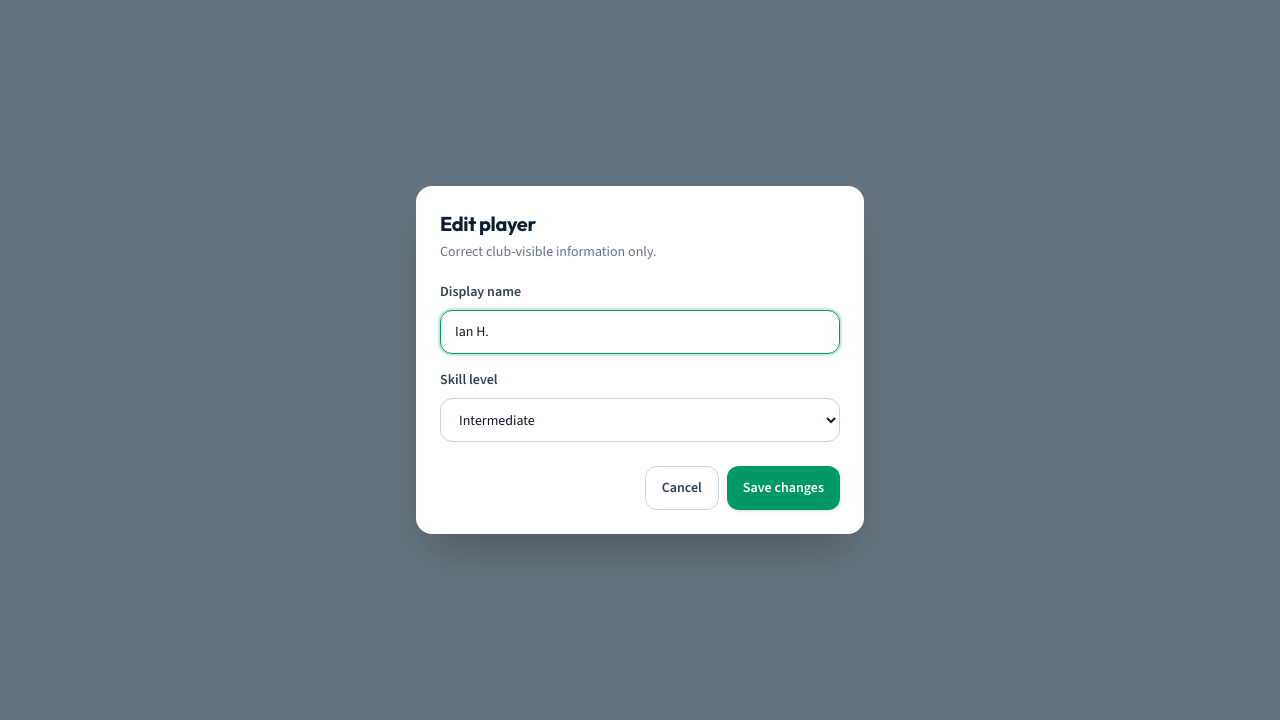
Test: EditPlayerDialog › shows an accessible error instead of silently ignoring an invalid name
The width and height of the screenshot is (1280, 720).
Replace the text in the field labelled "Display name" with "I" at coordinates (640, 332), box [440,310,840,354]
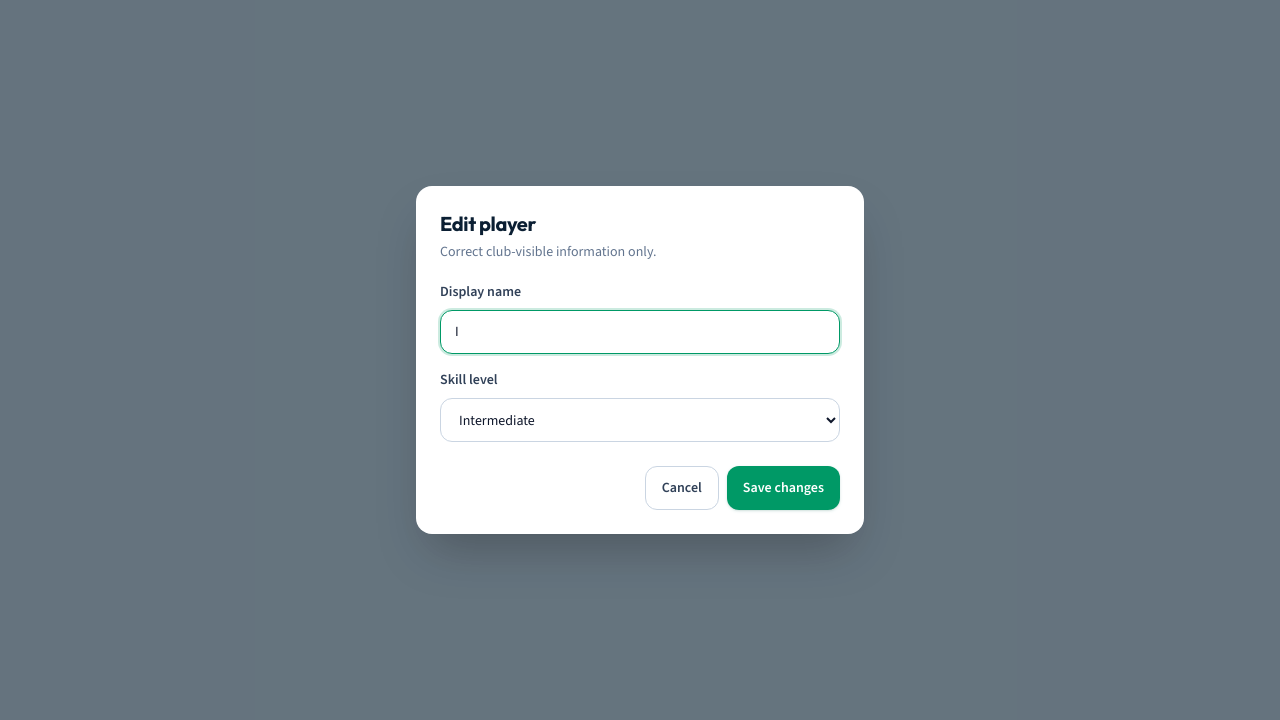
Click the button "Save changes" at coordinates (783, 488), box [727,466,840,510]
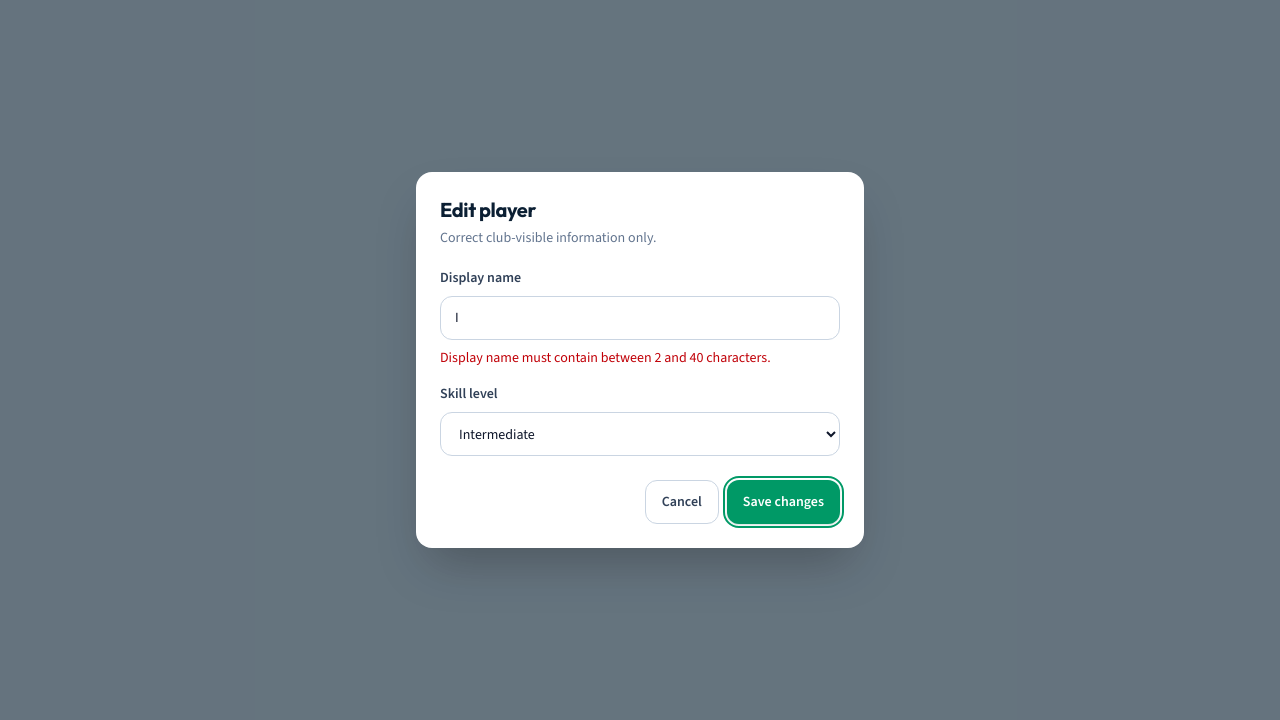
Expected: the message reads "Display name must contain between 2 and 40 characters.", [440,348,771,367]
